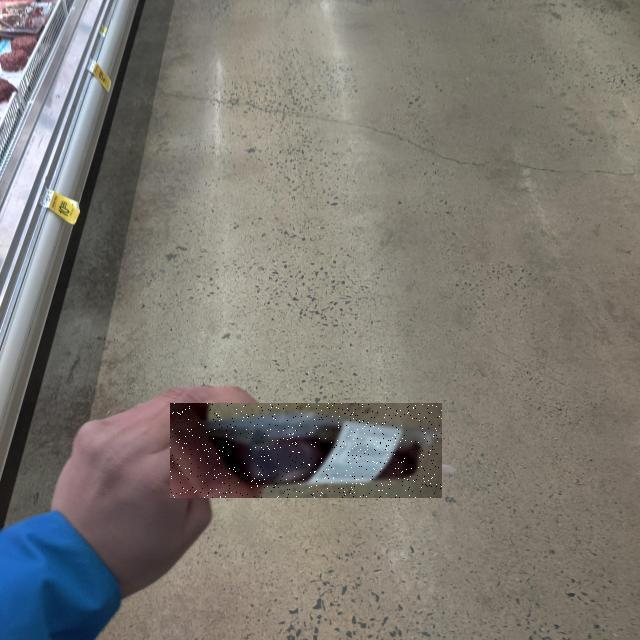Meat: (170, 403, 442, 498)
